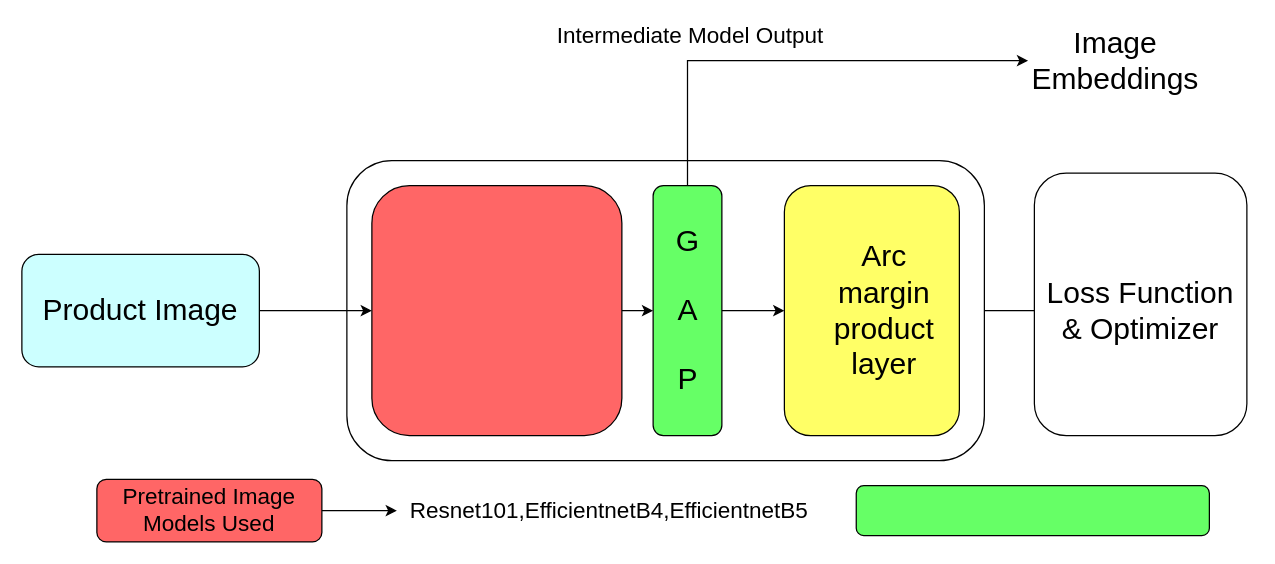
The diagram is 1275 pixels wide and 564 high, and some of its shapes have lost their labels. The centre of each missing label's shape, as x and y in pixels:
GAP:Global Average Pooling: (x=1032, y=510)
Pretrained Model: (x=496, y=310)
